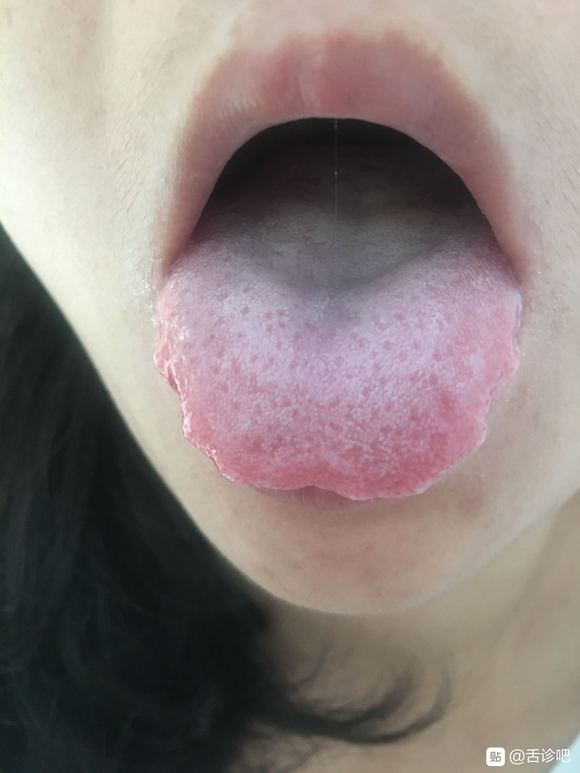baitaishe: (160, 141, 524, 502)
piweiao: (241, 213, 435, 309)
xinfeiao: (269, 468, 367, 509)
